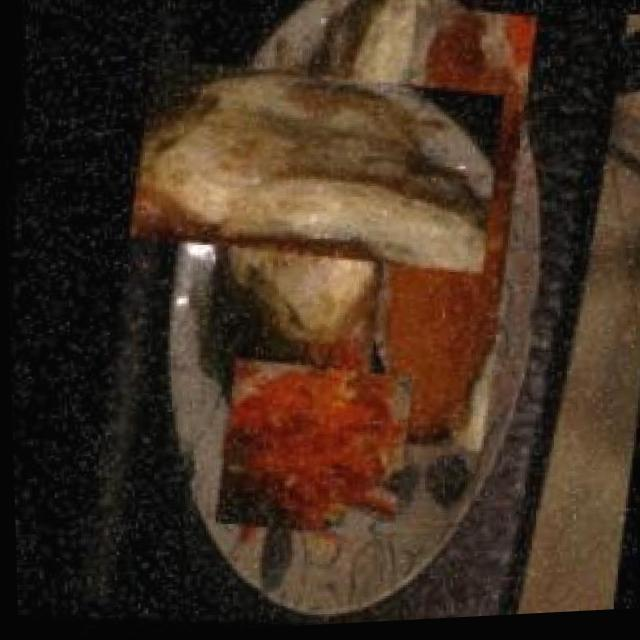carrot_eggs: (208, 349, 413, 555)
fried_chicken: (346, 1, 546, 464)
fried_eggs: (159, 6, 476, 329)
